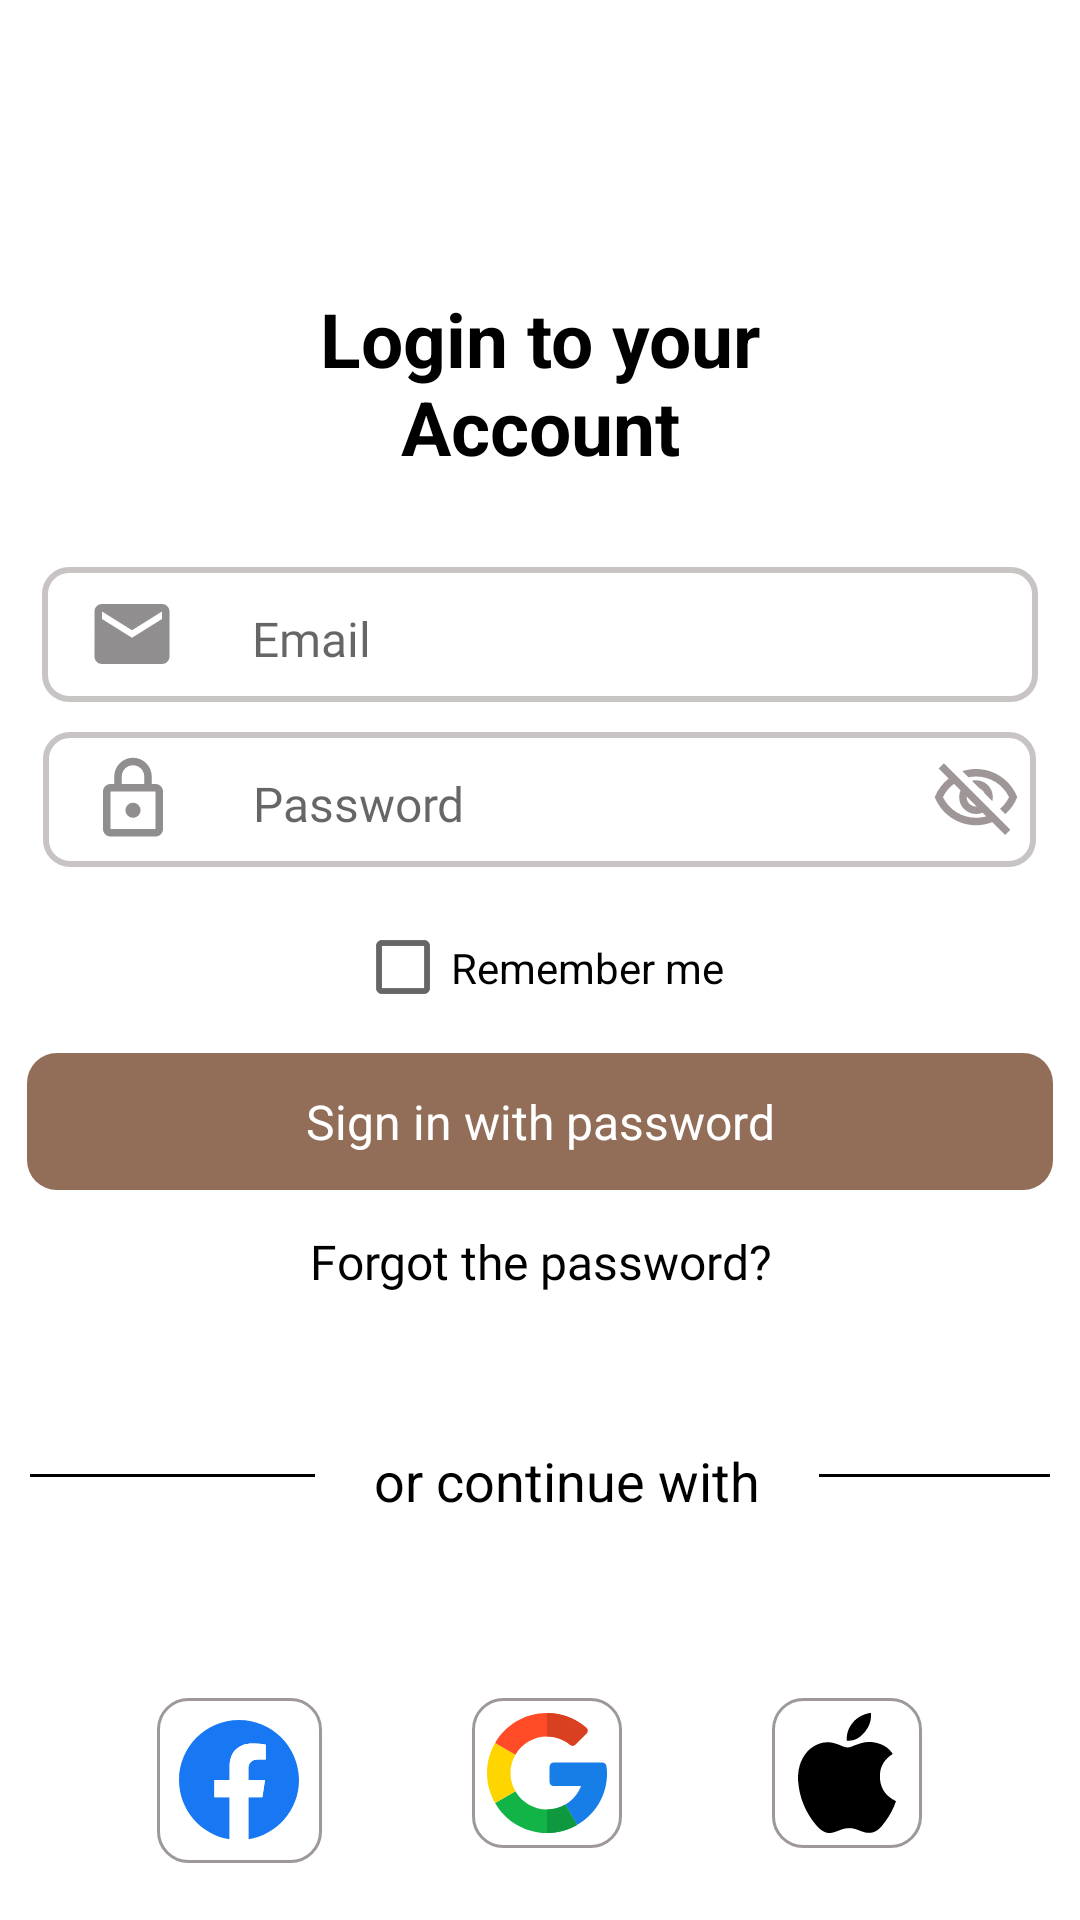

Named icons in this screenshot (1080px x 1920px) and their bounding boxes, box(x1, y1, x2, y2):
lock: box(103, 757, 163, 837)
non visibility: box(935, 763, 1017, 835)
